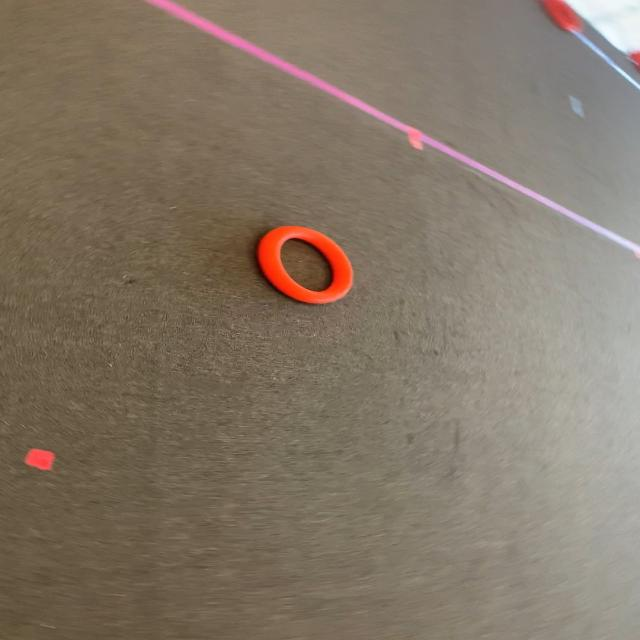notes: (257, 224, 354, 305)
